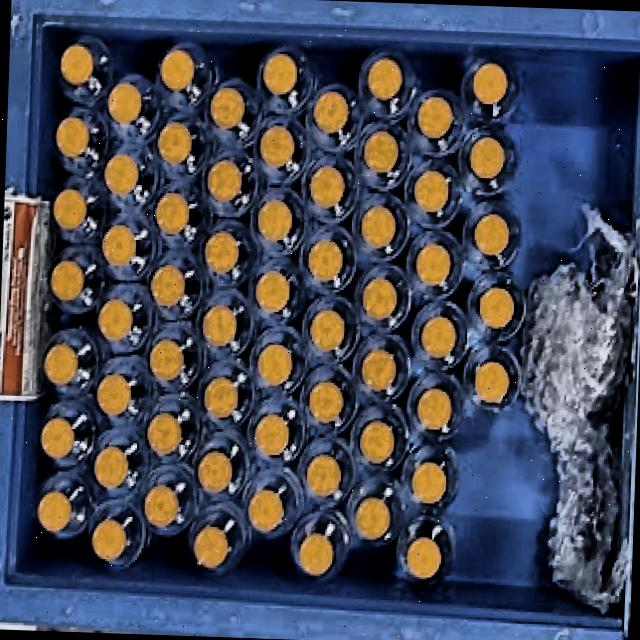vial: (405, 535, 442, 579), (478, 285, 515, 329), (471, 61, 508, 105), (366, 56, 403, 100), (354, 496, 391, 539), (253, 413, 290, 456), (308, 164, 345, 207), (258, 124, 295, 167), (362, 130, 399, 173), (359, 419, 395, 463), (146, 412, 182, 456), (150, 263, 186, 307), (307, 237, 343, 281), (416, 95, 452, 139), (313, 90, 349, 134), (309, 308, 346, 350), (414, 243, 451, 285), (411, 460, 447, 503), (247, 488, 283, 531), (193, 525, 229, 568), (93, 445, 129, 488), (203, 375, 239, 418), (97, 298, 133, 341), (360, 205, 396, 248), (413, 169, 449, 212), (206, 159, 242, 202), (106, 81, 142, 124), (298, 532, 333, 576), (91, 517, 126, 561), (361, 347, 396, 391), (416, 387, 452, 429), (143, 484, 179, 526), (39, 416, 75, 458), (148, 338, 184, 380), (308, 380, 344, 422), (421, 315, 457, 357), (204, 231, 240, 273), (473, 213, 509, 255), (469, 136, 505, 178), (255, 269, 290, 312), (263, 51, 298, 94), (37, 489, 71, 533), (159, 48, 195, 89), (306, 454, 341, 496), (197, 450, 232, 492), (96, 373, 131, 415), (43, 342, 78, 384), (257, 342, 292, 384), (202, 304, 237, 346), (362, 277, 397, 319), (257, 198, 292, 240), (155, 191, 190, 233), (157, 121, 192, 163), (210, 87, 245, 129), (59, 42, 94, 84), (52, 188, 88, 228), (54, 116, 90, 156), (50, 259, 85, 300), (101, 224, 136, 265), (104, 152, 138, 194), (475, 361, 509, 402)
